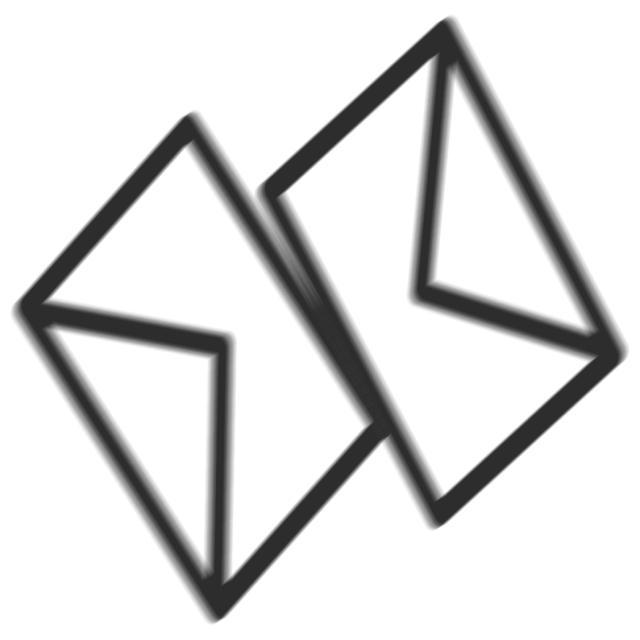letter: (3, 97, 407, 638), (249, 4, 638, 551)
